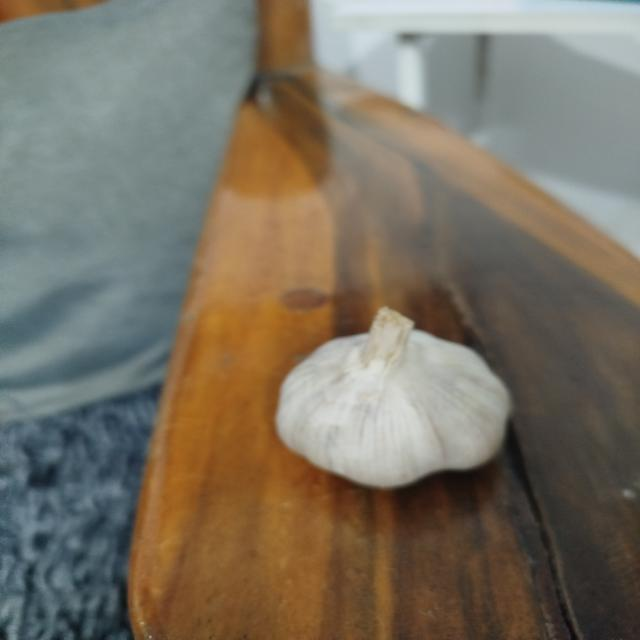garlic: (274, 306, 512, 489)
